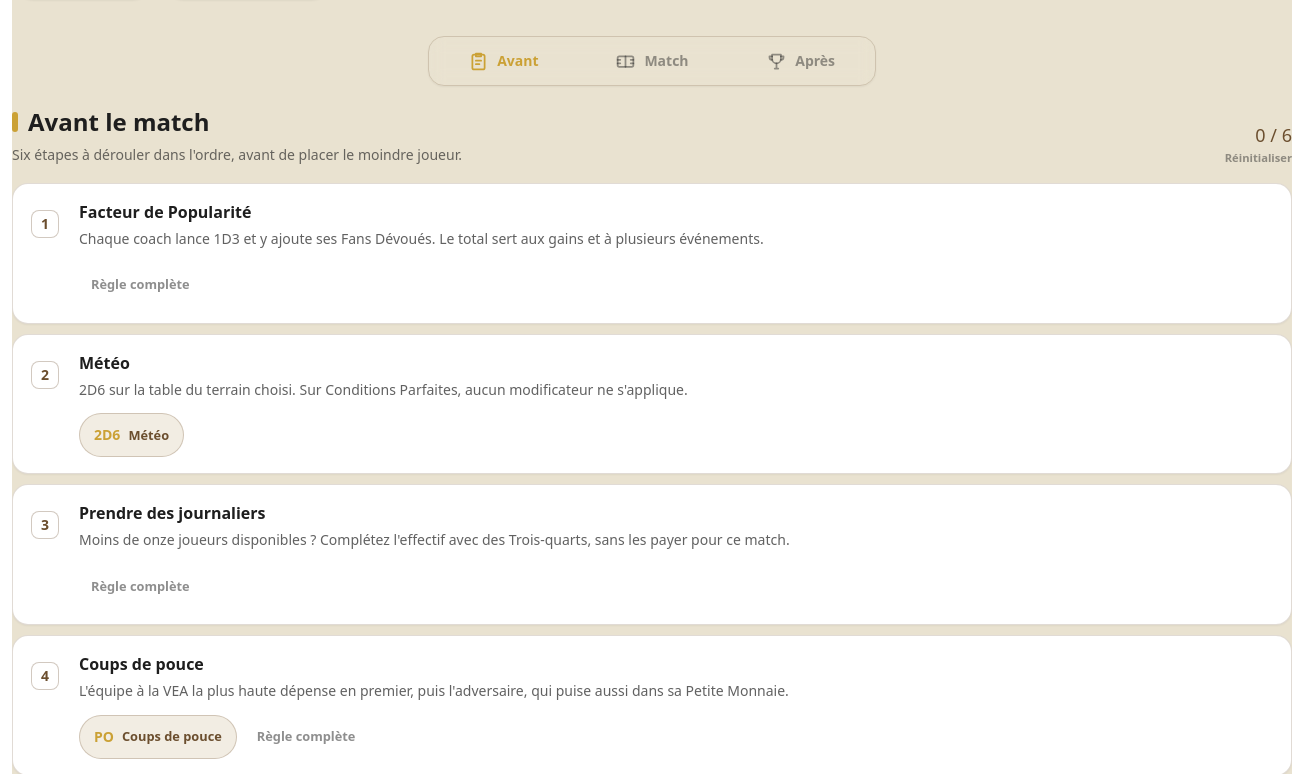
it: AideDeJeuClient › coche une étape d'avant-match et met le compteur à jour
The width and height of the screenshot is (1304, 774).
(page scrolled)
What coordinates should you click on to do the following:
click the button named "Cocher"
I would click on:
 (45, 375)
Its box is [23,353,67,397].
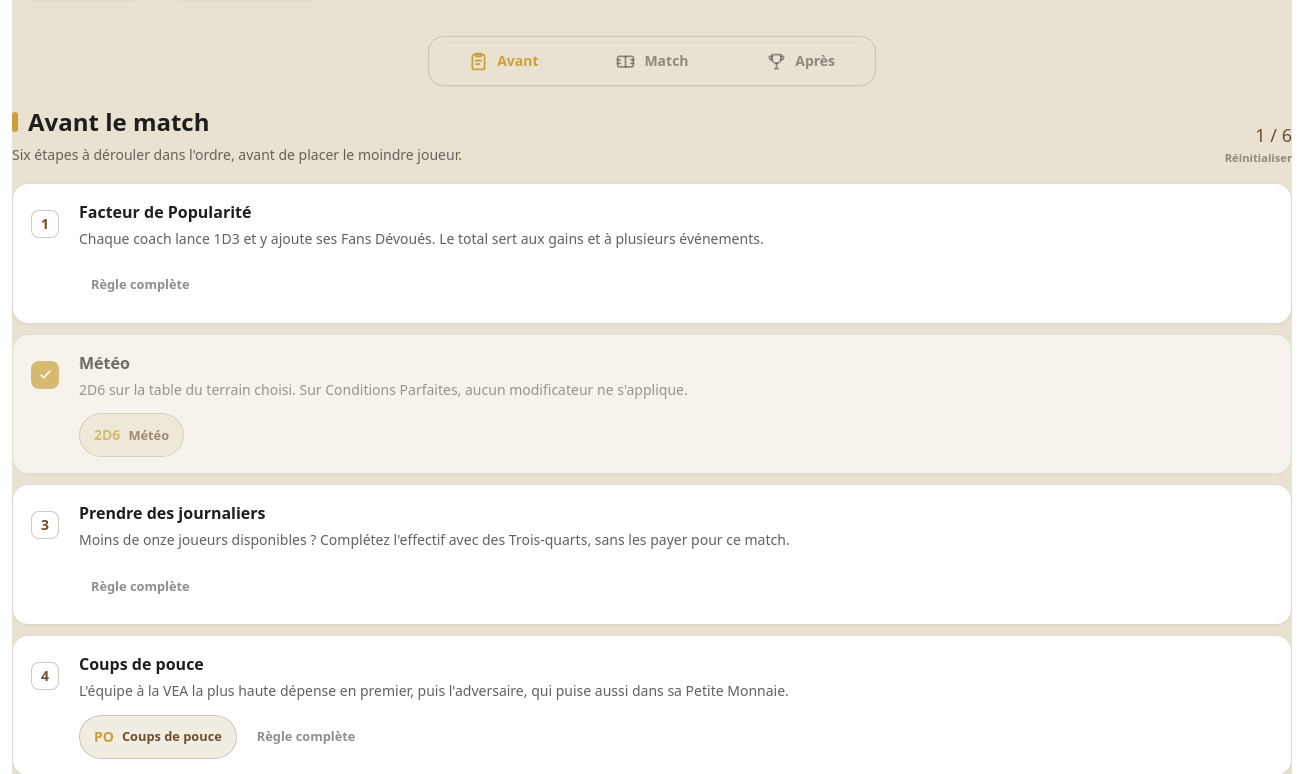
Expected: the button named "Décocher" is shown, [23,353,67,397]
Expected: the text "1 / 6" is shown, [1255,126,1292,144]
